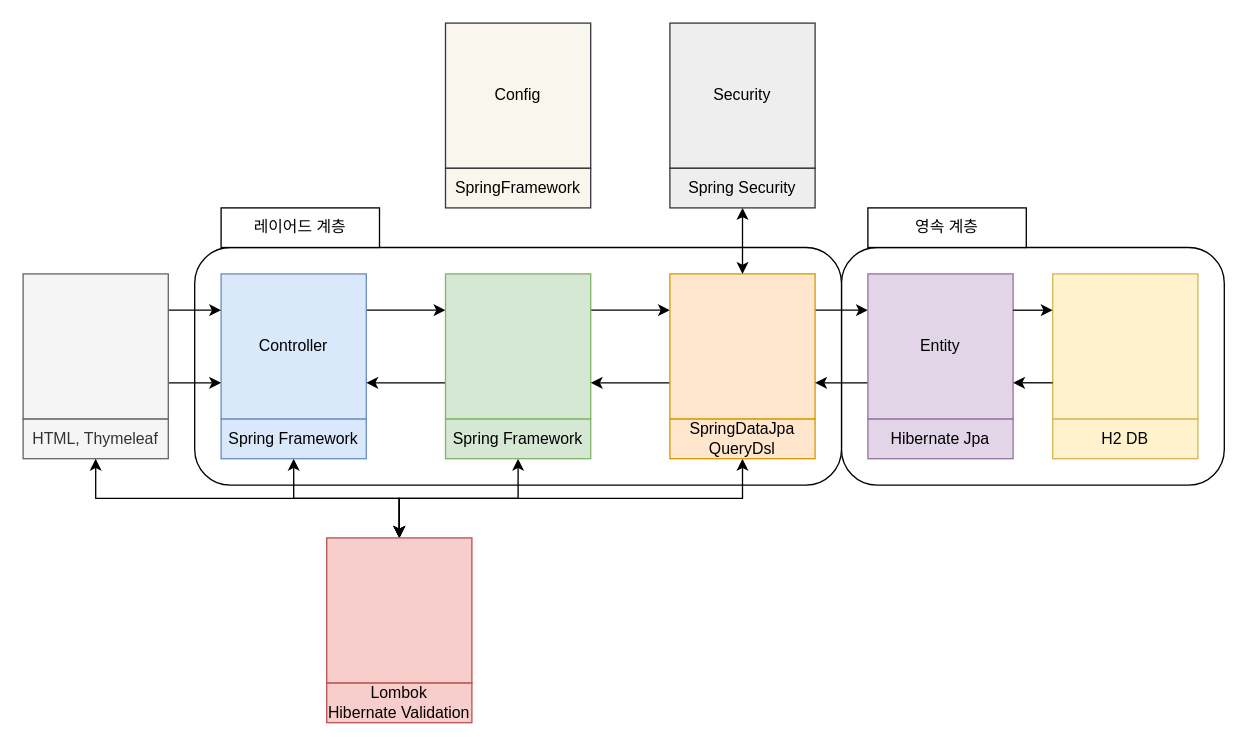
Image size: 1247x746. Some labels were removed from this diagram. Here are the shapes that lost their labels. From the top down, the centre of each, then its label:
At point 95,346: "View".
At point 517,346: "Service".
At point 742,346: "Repository".
At point 1124,346: "Database".
At point 398,610: "Domain".
